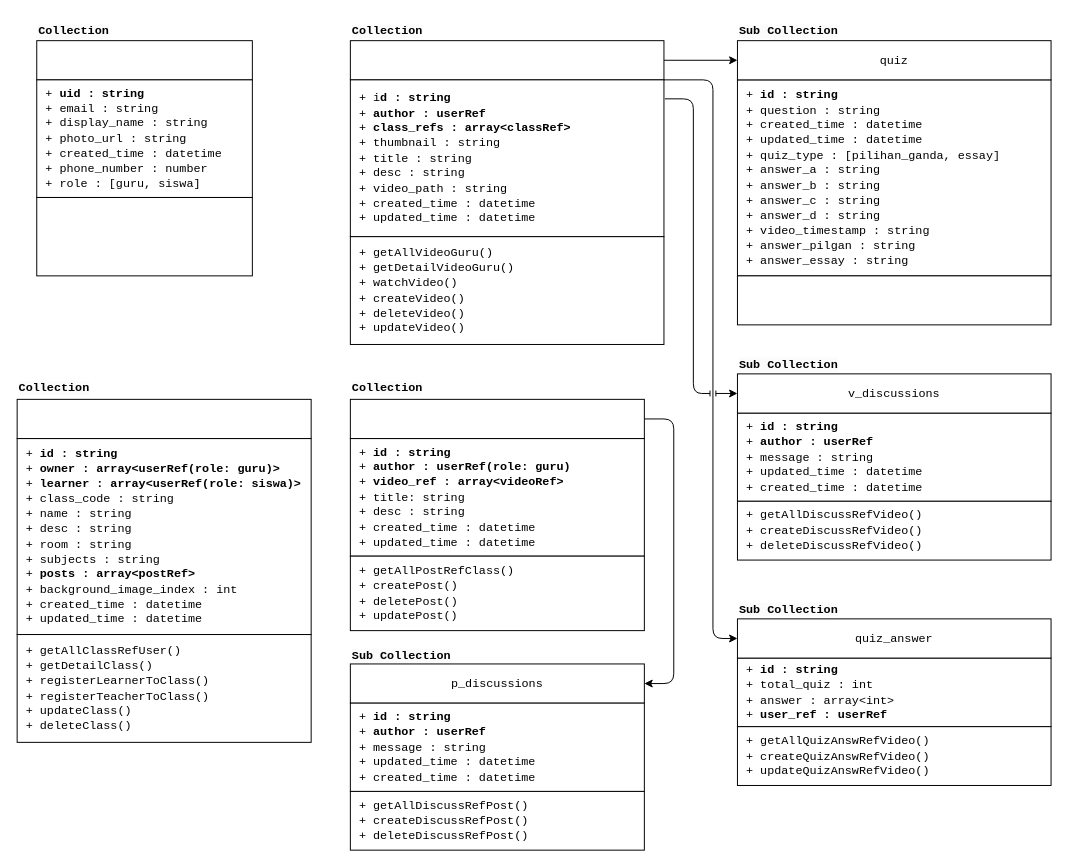
The diagram is 1068 pixels wide and 867 high, and some of its shapes have lost their labels. The box of each missing label's shape, as (x1, y1, x2, y2) in pixels:
+ getAllQuizRefVideo() + createQuizRefVideo(): (736, 275, 1051, 325)
+ login() + register() + update_password() + update_profile() + update_image(): (36, 196, 252, 276)
classess: (16, 398, 311, 439)
posts: (349, 398, 644, 439)
users: (36, 40, 252, 80)
videos: (349, 40, 664, 80)
